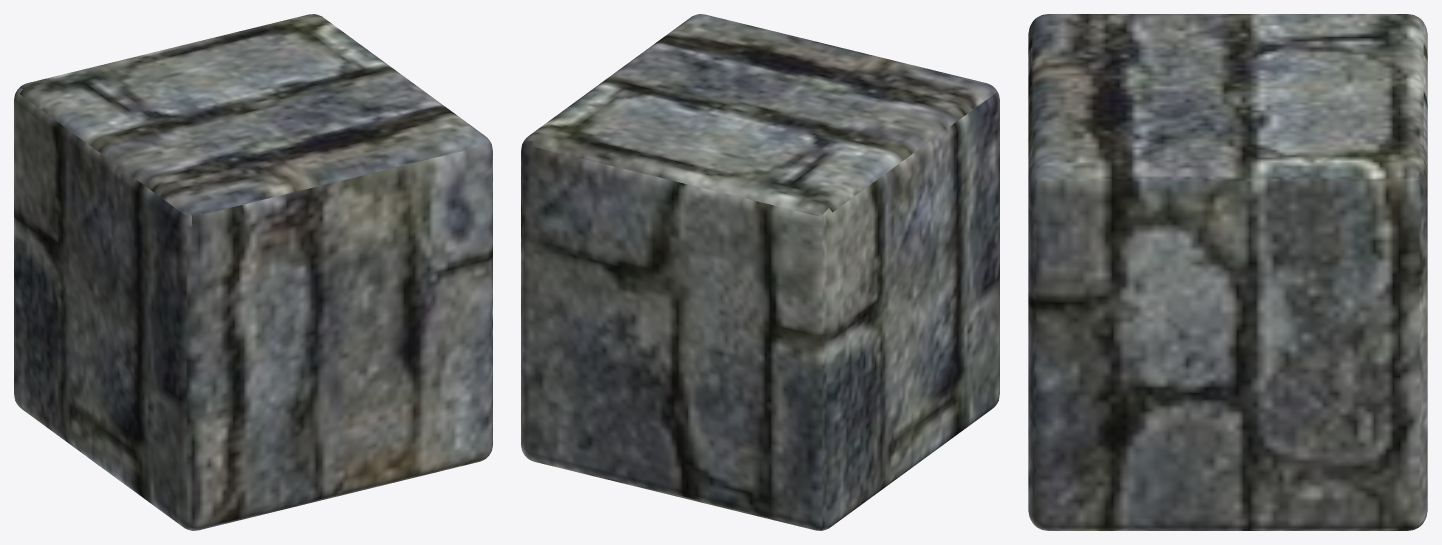
Rendered from cube_no_normal.glb.
3 views of the same model, side by side, from view 1: azimuth 30°, elevation 25°; view 2: azimuth 150°, elevation 25°; view 3: azimuth 270°, elevation 25° (orthographic). The views are drawn at different scales.
Parts seen in each view (by area): view 1: Node1; view 2: Node1; view 3: Node1.
Boxes of the visible parts, <box> form: Node1: <box>14,14,492,530</box>; Node1: <box>521,14,999,530</box>; Node1: <box>1028,14,1427,530</box>.
Size of the model in its own units: 2 by 2 by 2.
1 material, 1 textured.
